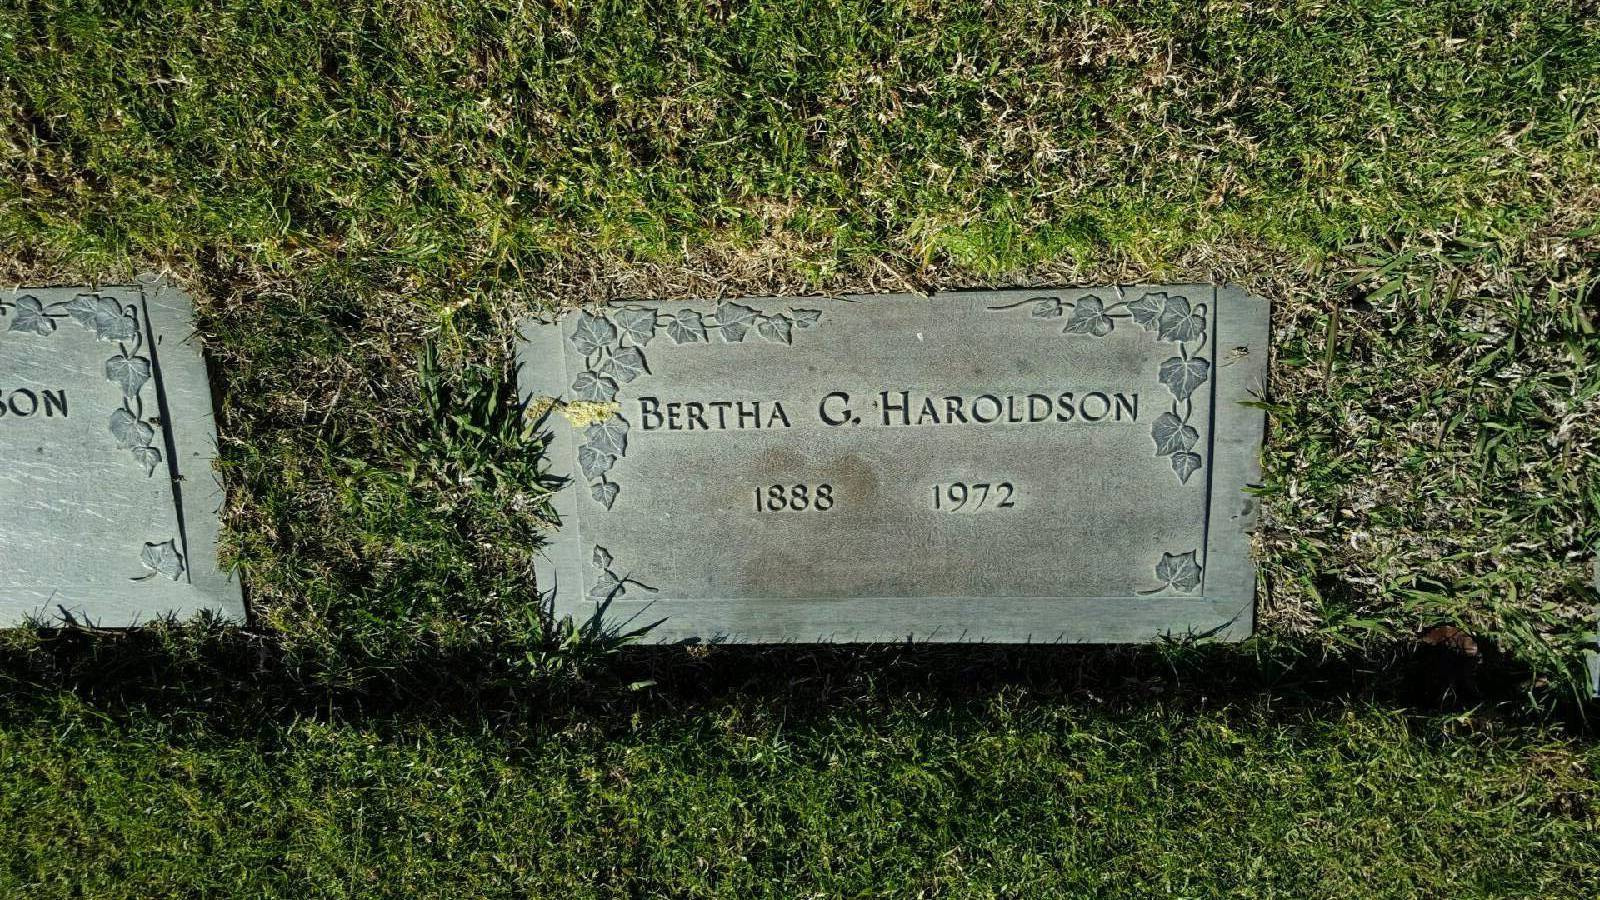flat: (487, 284, 1271, 653)
